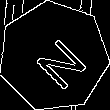N_NW: (21, 24, 86, 89)
